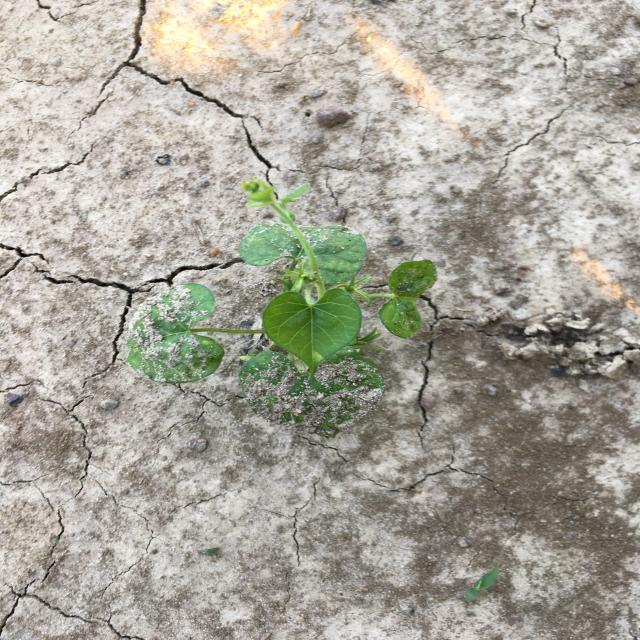MorningGlory: (124, 176, 439, 442)
